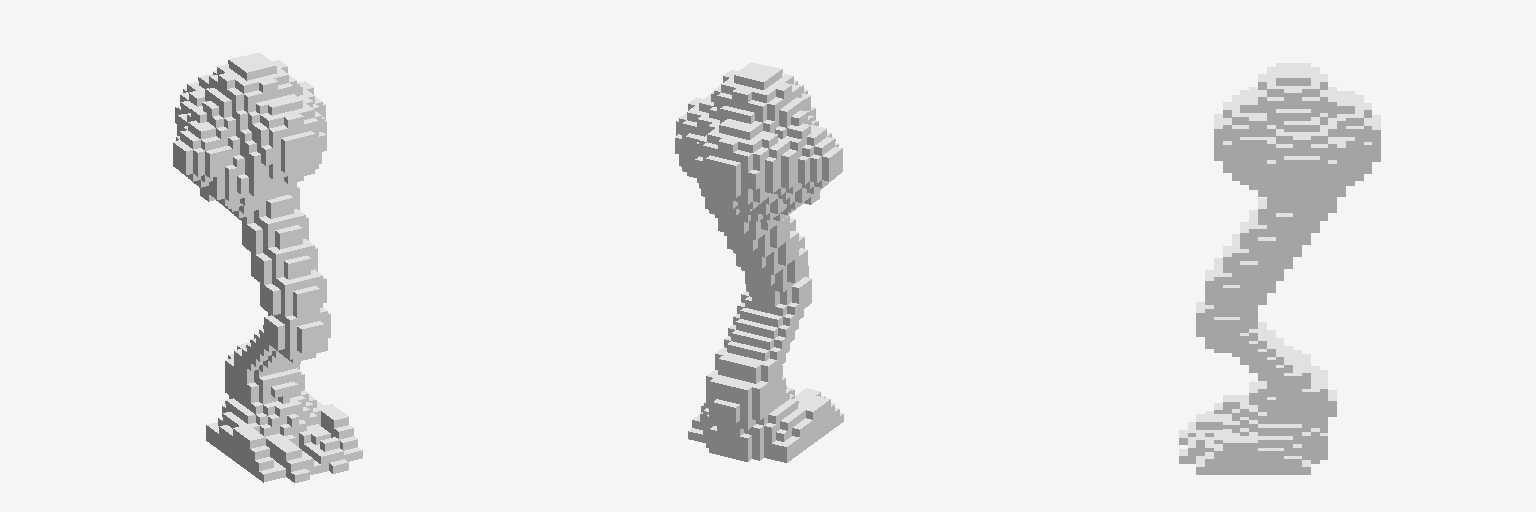
The model's file is BackLegRight.obj.
3 views of the same model, side by side, from view 1: azimuth 30°, elevation 25°; view 2: azimuth 150°, elevation 25°; view 3: azimuth 270°, elevation 25° (orthographic).
Size of the model in its own units: 19 by 47 by 23.